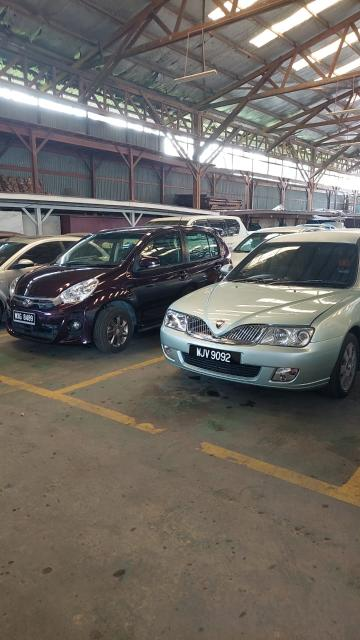License_Plate: (188, 341, 242, 370), (10, 308, 40, 328)
car: (165, 233, 360, 404), (13, 222, 231, 358)
